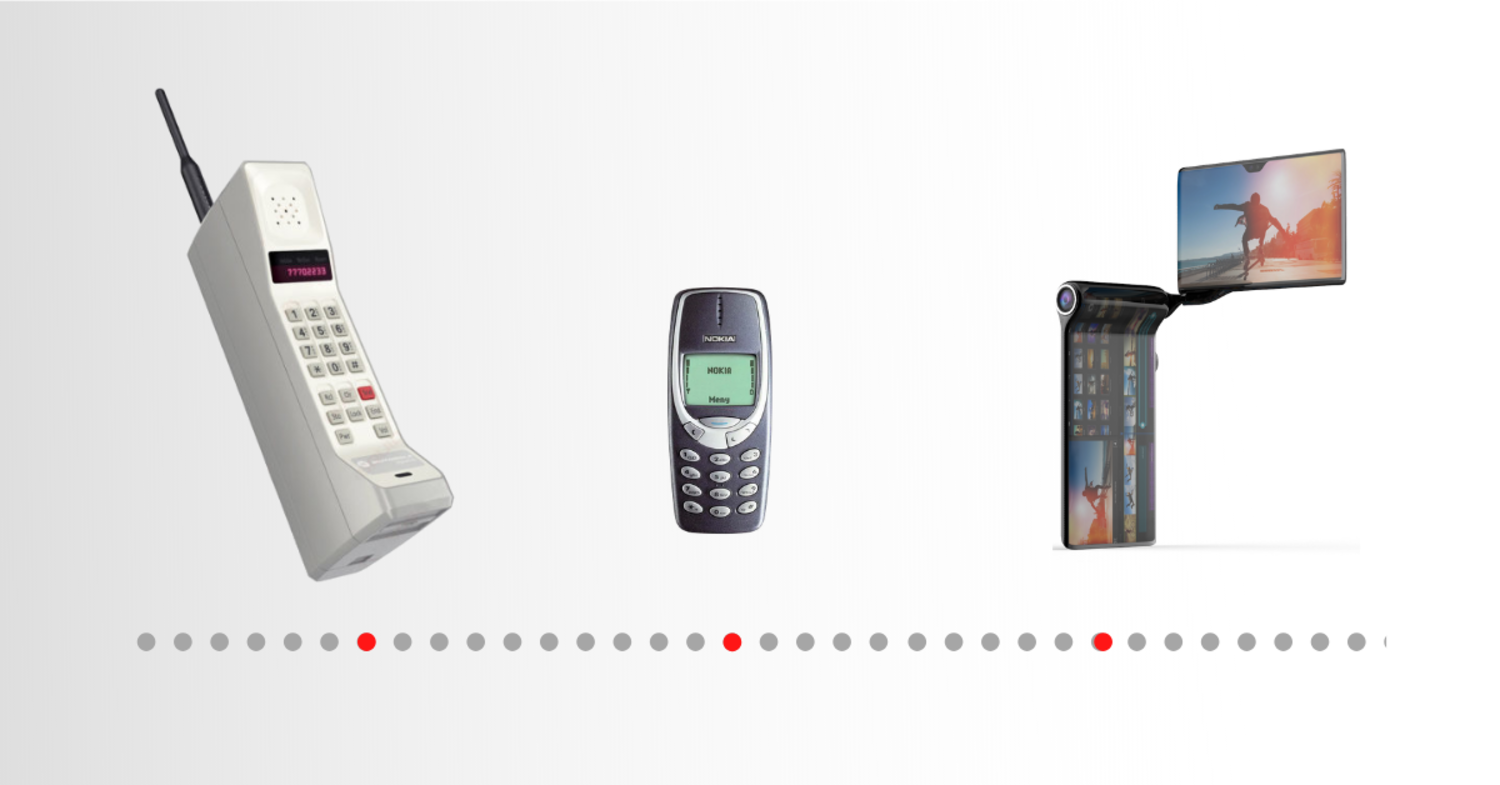phone: (138, 82, 471, 611), (644, 264, 797, 570)
